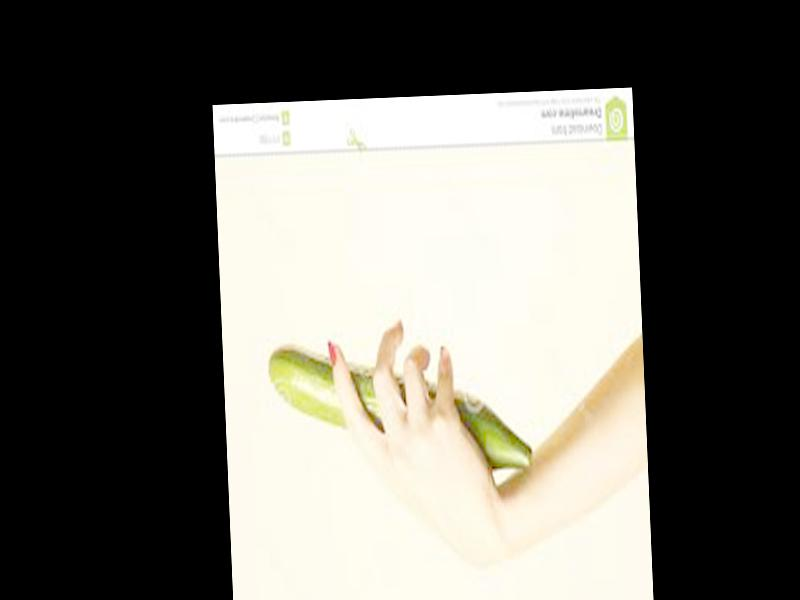Cucumber: (267, 333, 536, 478)
